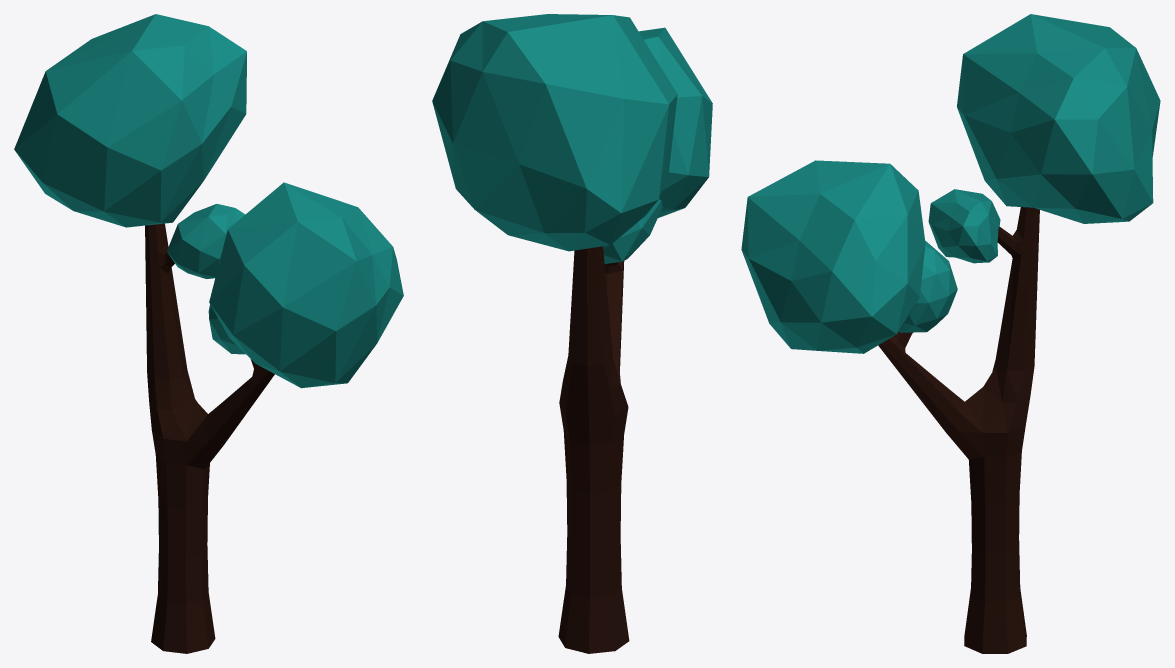
The model's file is t7-cyan.obj.
3 renders of one model, left to right at view 1: azimuth 30°, elevation 25°; view 2: azimuth 150°, elevation 25°; view 3: azimuth 270°, elevation 25°, orthographic. The views are drawn at different scales.
Parts seen in each view (by area): view 1: t7-cyan_Cylinder.017; view 2: t7-cyan_Cylinder.017; view 3: t7-cyan_Cylinder.017.
Part boxes in pixels (bbox=[...]): t7-cyan_Cylinder.017: bbox=[14, 14, 403, 653]; t7-cyan_Cylinder.017: bbox=[432, 14, 712, 653]; t7-cyan_Cylinder.017: bbox=[741, 14, 1160, 653].
Size of the model in its own units: 4.54 by 10.02 by 6.25.
